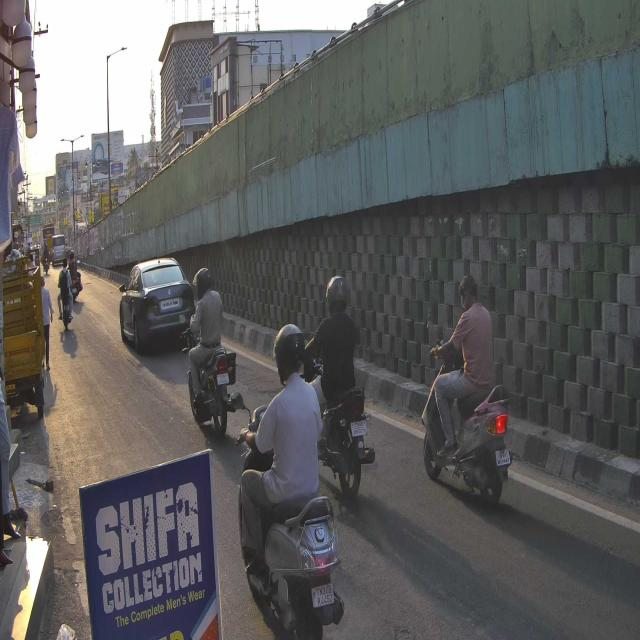single_rider: (232, 320, 344, 640), (422, 273, 513, 505), (178, 266, 229, 436)
